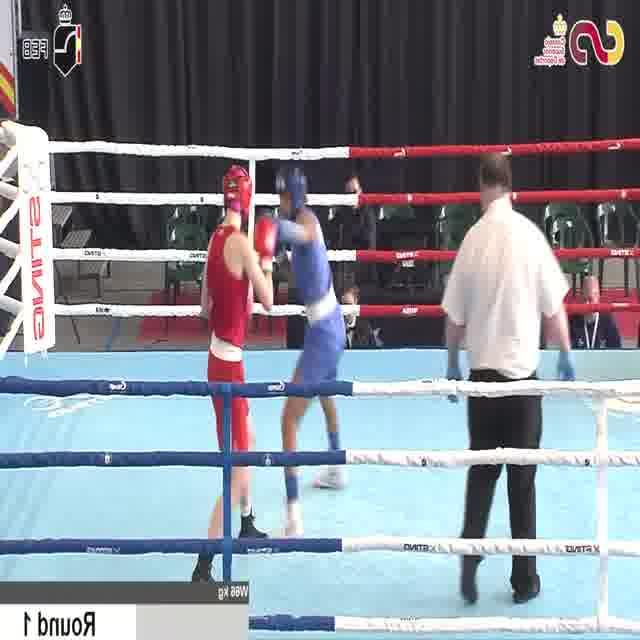blue-player: (260, 162, 349, 546)
red-player: (189, 160, 280, 598)
referee: (443, 151, 577, 607)
